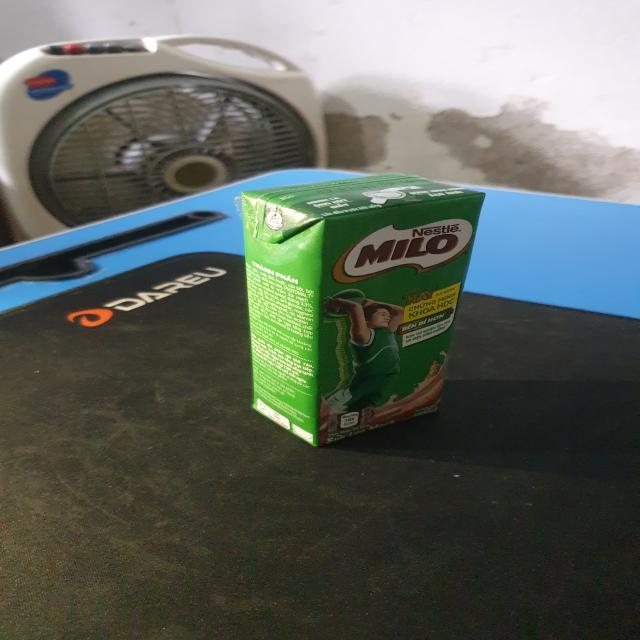Milo: (247, 174, 481, 444)
